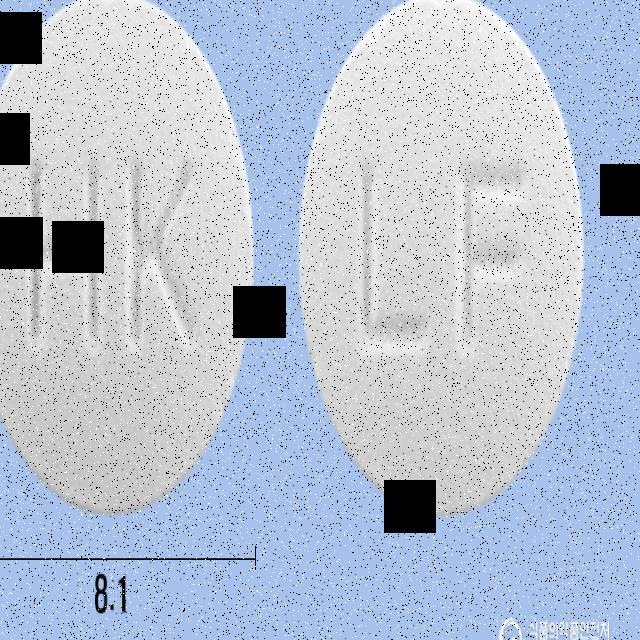Levotacin: (298, 0, 584, 510), (0, 0, 255, 510)
